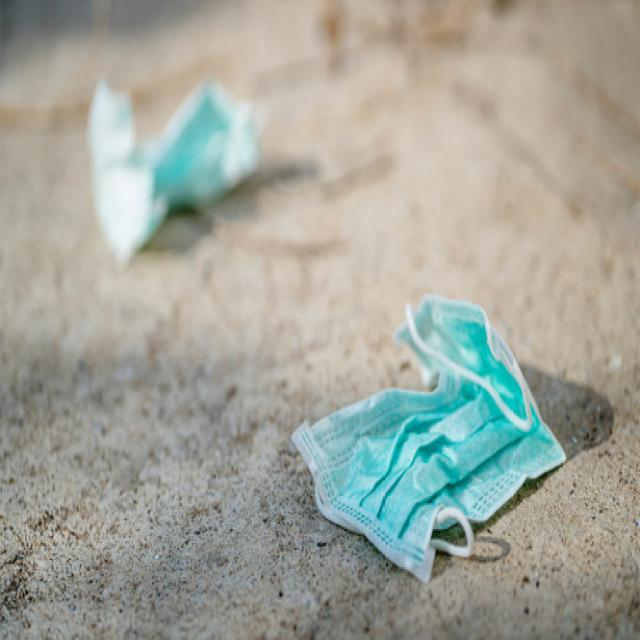non-organic waste: (292, 292, 565, 578)
